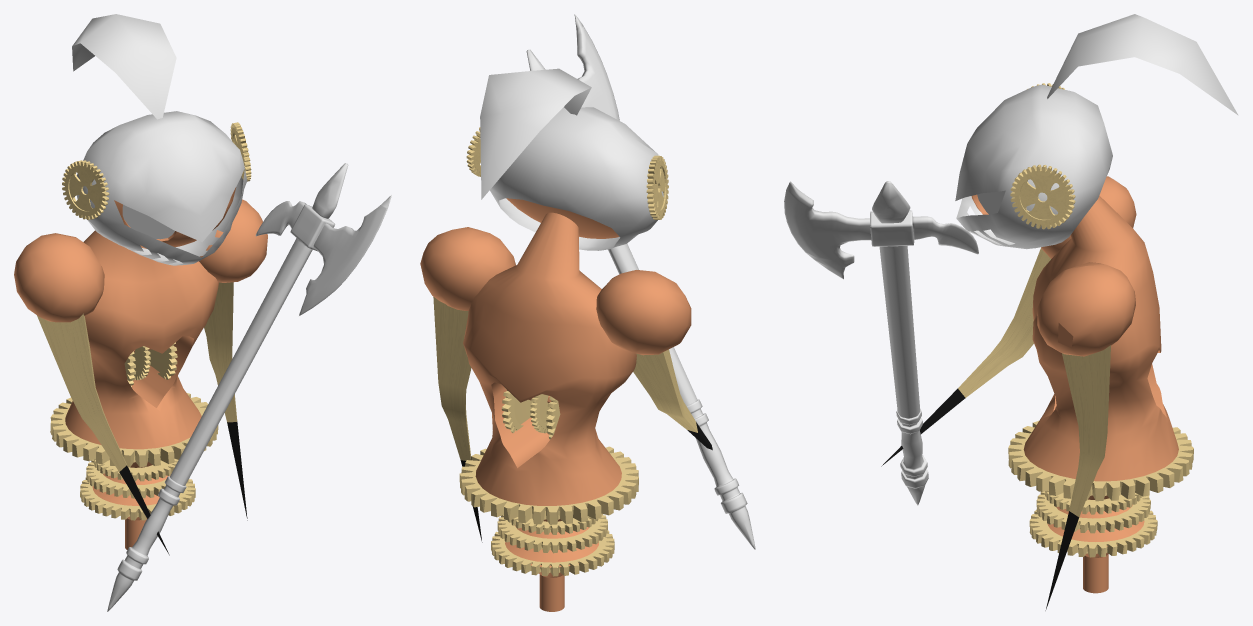
File: enemy.fbx
3 views of the same model, side by side, from view 1: azimuth 30°, elevation 25°; view 2: azimuth 150°, elevation 25°; view 3: azimuth 270°, elevation 25° (orthographic). The views are drawn at different scales.
Parts seen in each view (by area): view 1: Circle.026, Plane.002, AXE_defaultPolygonShader_0.002, Sphere.001, Plane.001, Cone.004, Sphere.012, Circle.030, Cone.001, 45.001_Rad Material_0.010, Circle.027, Sphere.005 (+4 smaller); view 2: Circle.026, Plane.002, Plane.001, Sphere.001, AXE_defaultPolygonShader_0.002, Sphere.012, Circle.030, Cone.001, Cone.004, Circle.027, Circle.028, Sphere.005 (+5 smaller); view 3: Circle.026, Plane.002, AXE_defaultPolygonShader_0.002, Sphere.012, Plane.001, Cone.001, Circle.030, Cone.004, 45.001_Rad Material_0.011, Circle.027, Circle.028, Sphere.001 (+1 smaller).
Part boxes in pixels (x1,y1,x2,y2): Circle.026: (65,230,218,549); Plane.002: (76,111,247,265); AXE_defaultPolygonShader_0.002: (107,163,391,611); Sphere.001: (14,233,104,322); Plane.001: (72,14,176,119); Cone.004: (37,313,169,555); Sphere.012: (199,199,267,282); Circle.030: (50,393,218,467); Cone.001: (204,282,247,520); 45.001_Rad Material_0.010: (62,160,109,219); Circle.027: (80,477,195,520); Sphere.005: (114,187,236,247); Circle.026: (463,212,636,611); Plane.002: (490,107,663,250); Plane.001: (480,68,591,199); Sphere.001: (596,270,691,355); AXE_defaultPolygonShader_0.002: (526,14,755,549); Sphere.012: (420,227,515,310); Circle.030: (459,446,638,524); Cone.001: (433,297,482,542); Cone.004: (633,349,712,450); Circle.027: (491,530,614,576); Circle.028: (497,513,607,553); Sphere.005: (506,198,619,238); Circle.026: (1023,196,1178,593); Plane.002: (955,84,1112,249); AXE_defaultPolygonShader_0.002: (784,181,978,505); Sphere.012: (1037,262,1135,356); Plane.001: (1047,14,1238,115); Cone.001: (1045,345,1110,610); Circle.030: (1008,420,1193,501); Cone.004: (881,247,1050,466); 45.001_Rad Material_0.011: (1010,164,1075,229); Circle.027: (1029,510,1157,557); Circle.028: (1036,491,1150,533); Sphere.001: (1041,176,1136,348).
Bounding box in the file's own units: 449 × 916 × 661.
6 materials, 1 textured.
